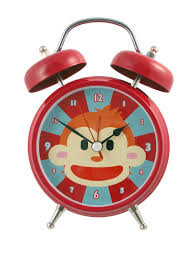alarm_clock: (19, 6, 174, 229)
